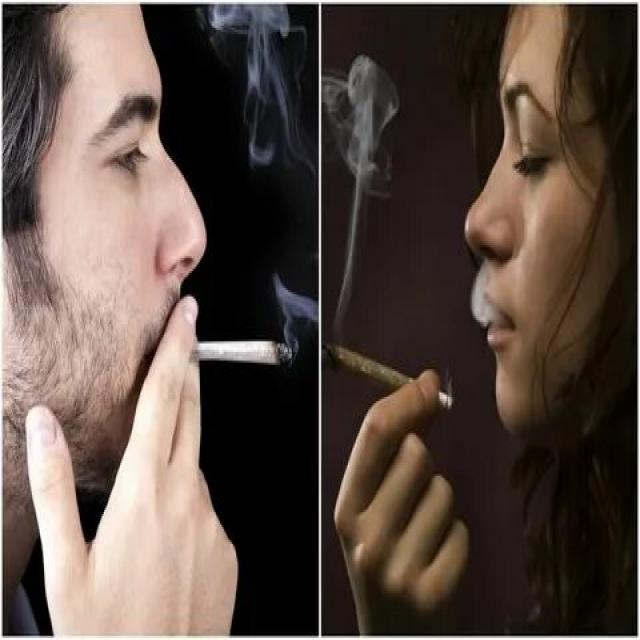cigarette: (324, 341, 457, 414), (193, 335, 295, 375)
